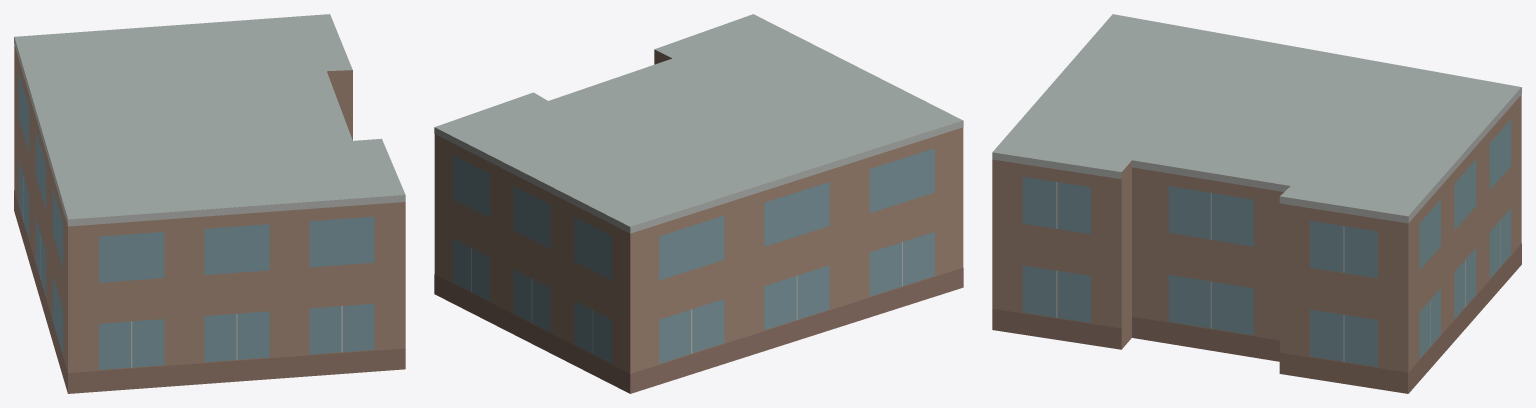
Rendered from survey-upis-32482154.glb.
3 renders of one model, left to right at view 1: azimuth 30°, elevation 25°; view 2: azimuth 150°, elevation 25°; view 3: azimuth 270°, elevation 25°, orthographic. The views are drawn at different scales.
Parts seen in each view (by area): view 1: survey-upis-32482154.tmp; view 2: survey-upis-32482154.tmp; view 3: survey-upis-32482154.tmp.
Boxes of the visible parts, bbox=[...] form: survey-upis-32482154.tmp: bbox=[14, 14, 405, 393]; survey-upis-32482154.tmp: bbox=[434, 14, 963, 393]; survey-upis-32482154.tmp: bbox=[992, 14, 1521, 393].
Bounding box in the file's own units: 14.92 × 6.1 × 16.5.
